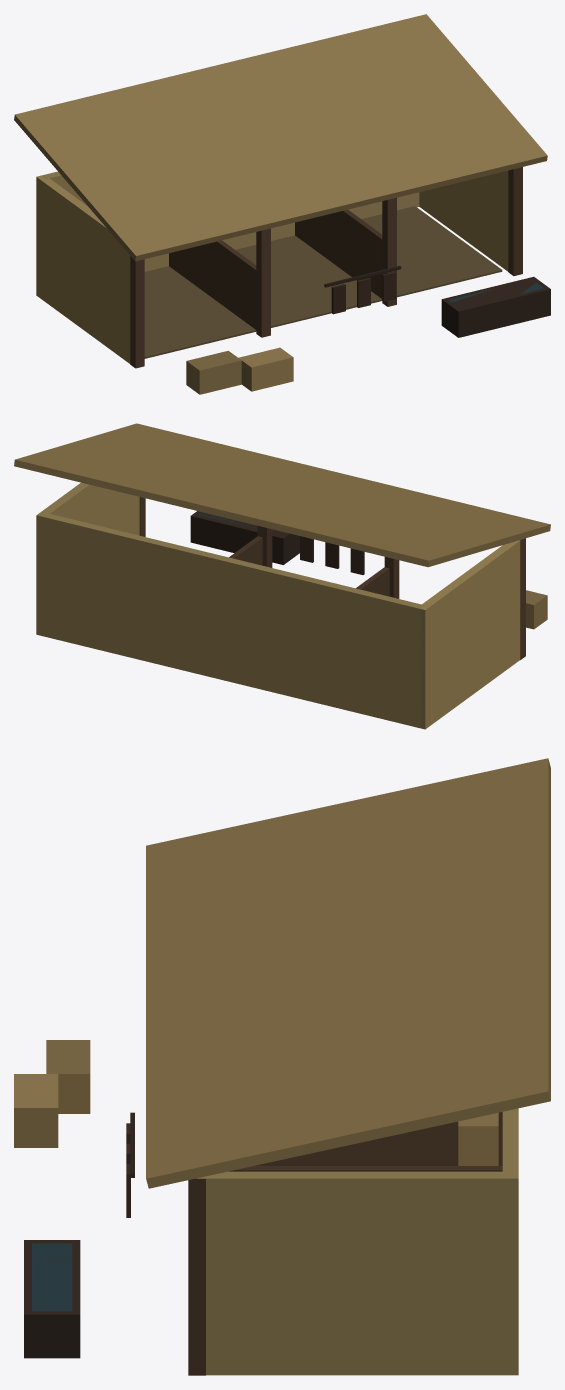
File: walk_tidebound_stable.glb
3 views of the same model, one above another, from view 1: azimuth 30°, elevation 25°; view 2: azimuth 150°, elevation 25°; view 3: azimuth 270°, elevation 25° (orthographic). The views are drawn at different scales.
Visible parts, largest first — view 1: walk_tidebound_stable_roof, walk_tidebound_stable; view 2: walk_tidebound_stable, walk_tidebound_stable_roof; view 3: walk_tidebound_stable_roof, walk_tidebound_stable.
Boxes of the visible parts, bbox=[...] form: walk_tidebound_stable_roof: bbox=[14, 14, 547, 261]; walk_tidebound_stable: bbox=[36, 167, 550, 394]; walk_tidebound_stable: bbox=[36, 482, 547, 729]; walk_tidebound_stable_roof: bbox=[14, 423, 550, 567]; walk_tidebound_stable_roof: bbox=[146, 758, 550, 1188]; walk_tidebound_stable: bbox=[14, 1040, 518, 1375].
Size of what is drawn, in the model's own units: 9.8 by 4.04 by 6.68.
1 material, 1 textured.
